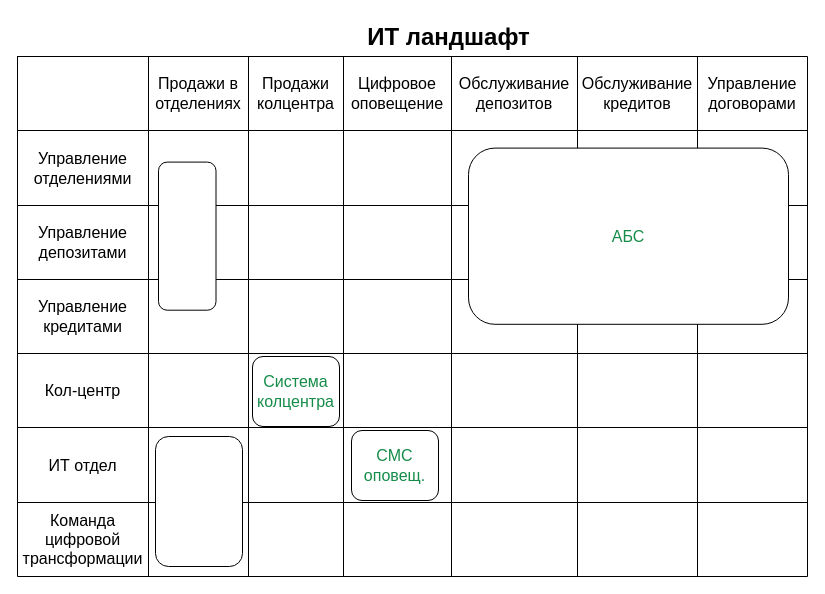
The diagram is 825 pixels wide and 594 high, and some of its shapes have lost their labels. Each missing label, with the centre of its shape:
EXCEL: pixel 187 235
Сайт и интернет банк: pixel 198 501
